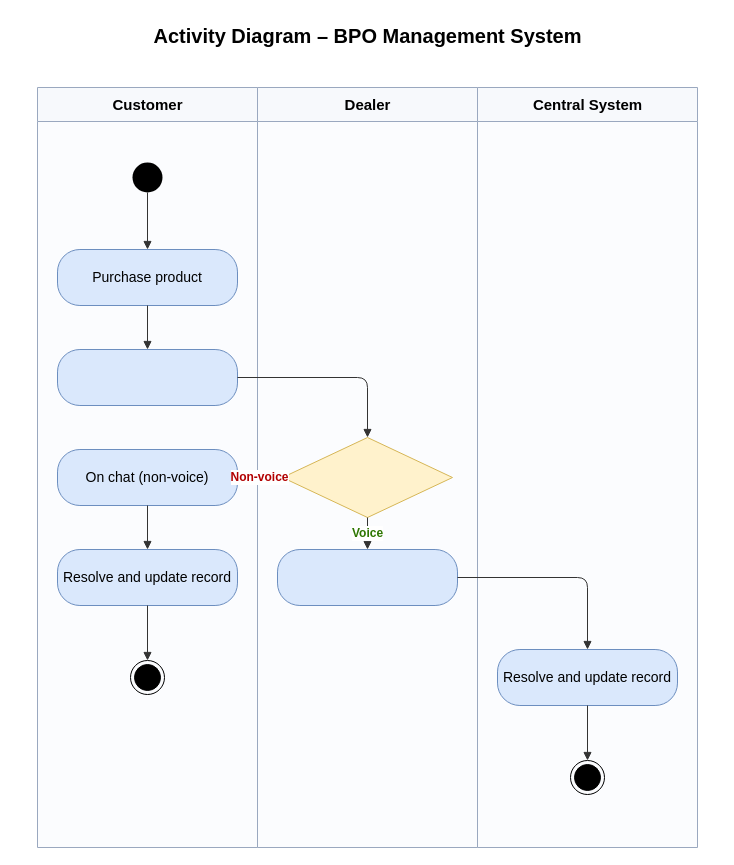
This 734x865 diagram has some shape labels left out. Each missing label, with the centre of its shape:
On call (voice): the point at 367,577
Option to check?: the point at 367,477
Request support: the point at 147,377
